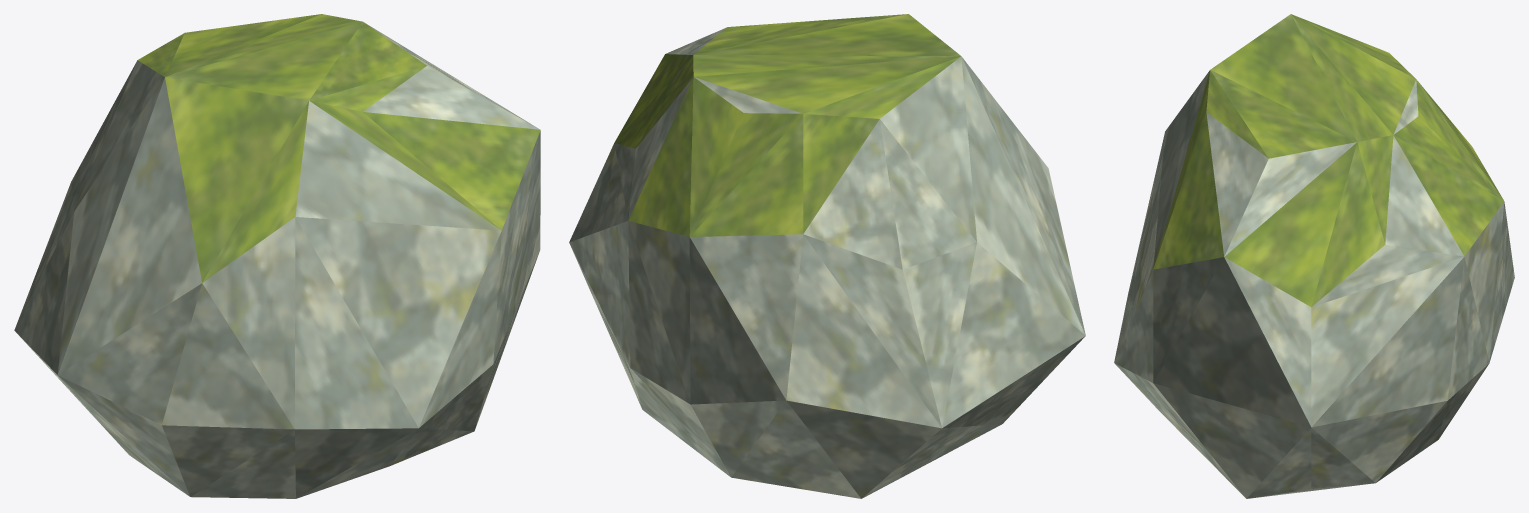
Rendered from Rock_Bank_A.glb.
3 views of the same model, side by side, from view 1: azimuth 30°, elevation 25°; view 2: azimuth 150°, elevation 25°; view 3: azimuth 270°, elevation 25° (orthographic). The views are drawn at different scales.
Parts seen in each view (by area): view 1: Rock_Bank_A; view 2: Rock_Bank_A; view 3: Rock_Bank_A.
Boxes of the visible parts, box(x1,y1,x2,y2) form: Rock_Bank_A: box(14, 14, 540, 498); Rock_Bank_A: box(569, 14, 1085, 498); Rock_Bank_A: box(1114, 14, 1514, 498).
Size of the model in its own units: 2.67 by 2.06 by 2.07.
1 material, 1 textured.
